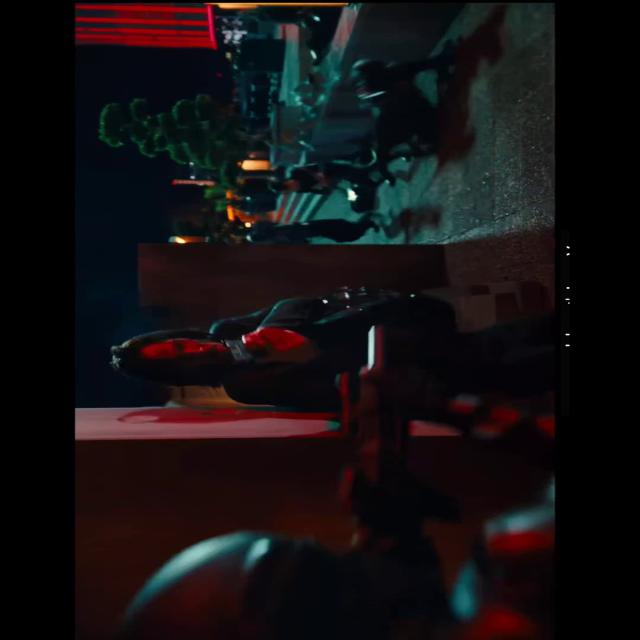weapons: (218, 326, 316, 372)
